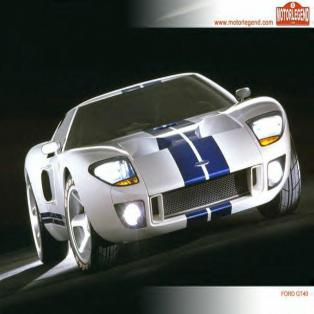Auto: (24, 72, 301, 274)
